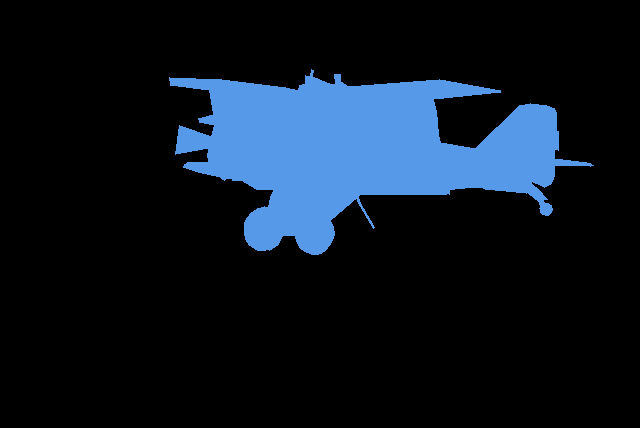Airplane: (169, 69, 593, 255)
